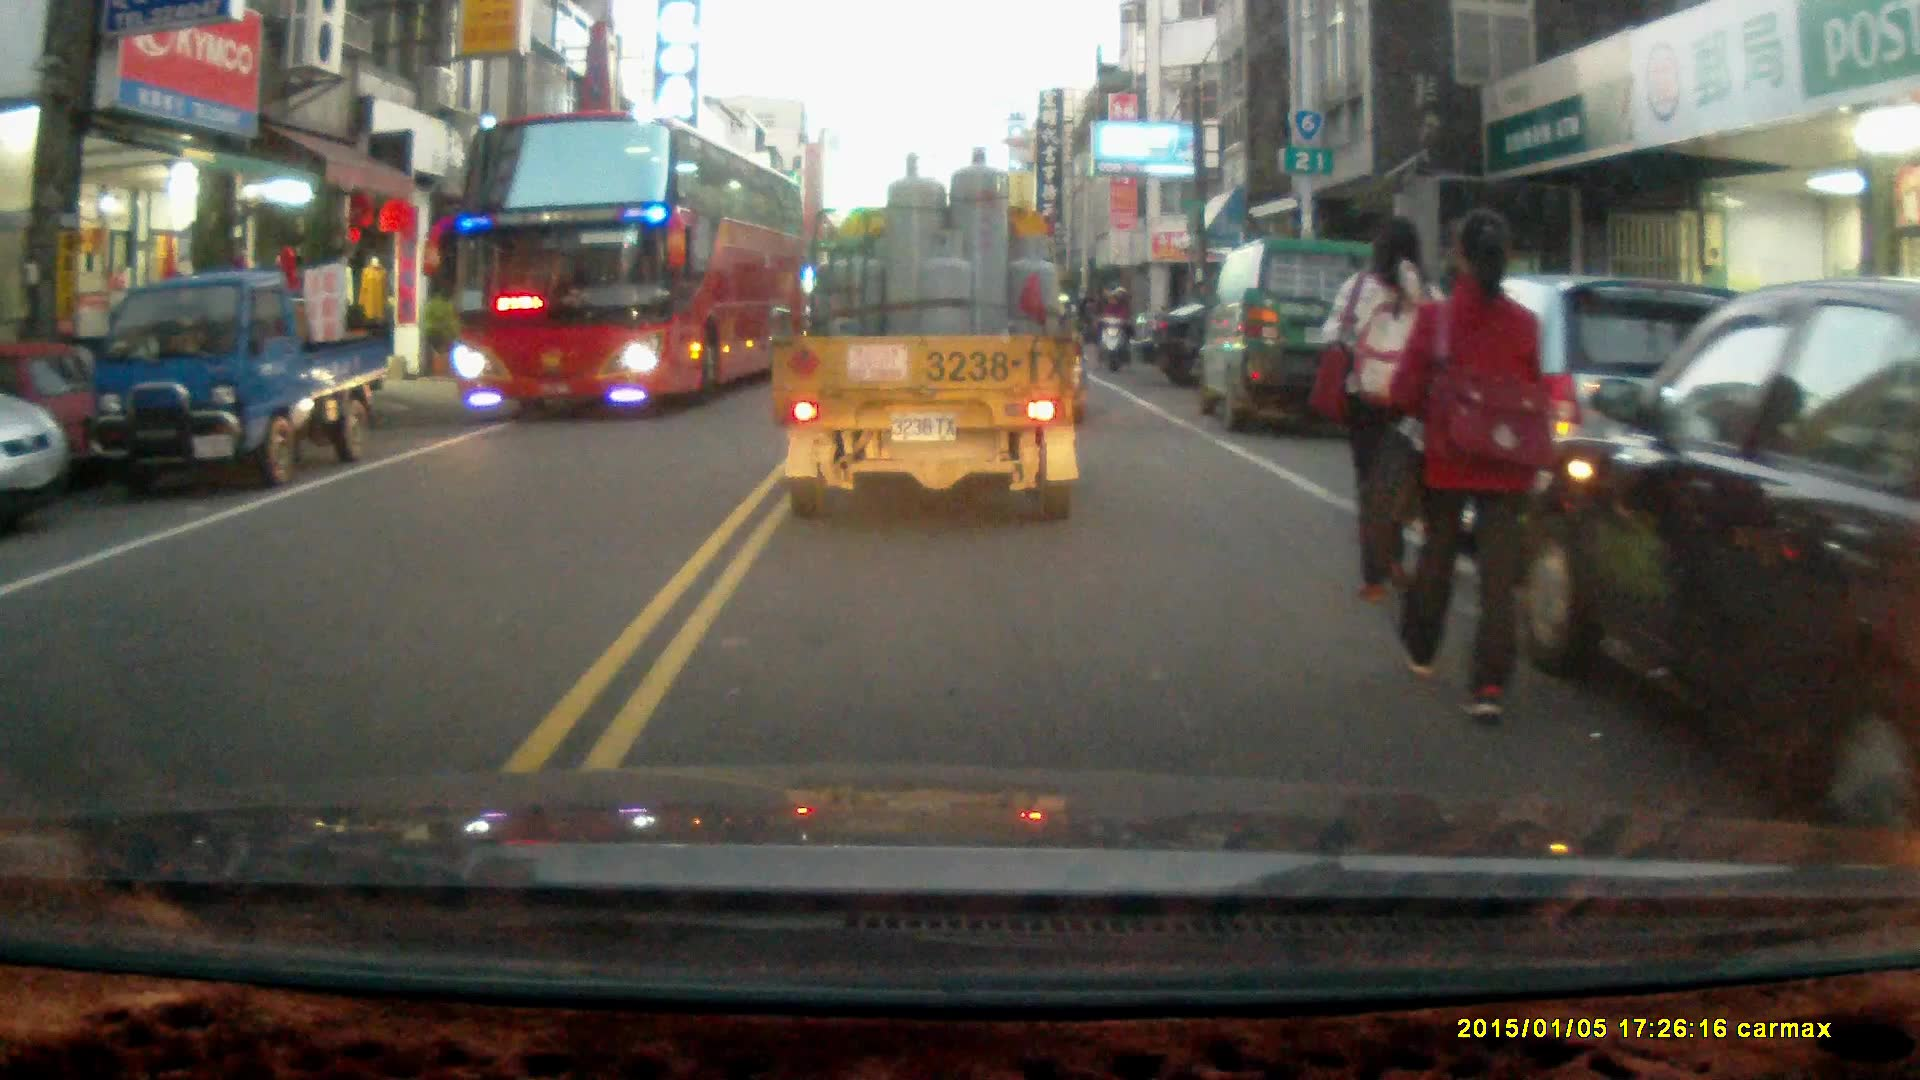pedestrian: (1385, 203, 1553, 724), (1327, 207, 1452, 612)
rider: (1093, 283, 1134, 372)
vehicle: (1506, 277, 1920, 830), (769, 143, 1087, 522), (445, 110, 806, 421), (91, 272, 384, 491), (1201, 235, 1397, 428), (1132, 299, 1423, 394), (1, 387, 70, 523)
